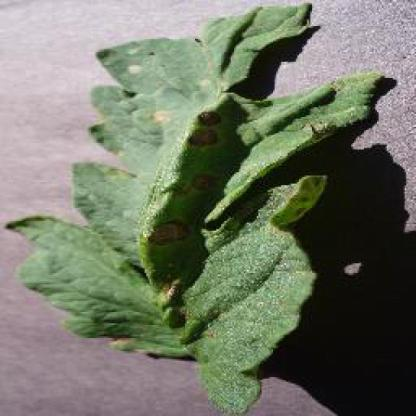Tomato_Blight: (8, 2, 380, 414)
